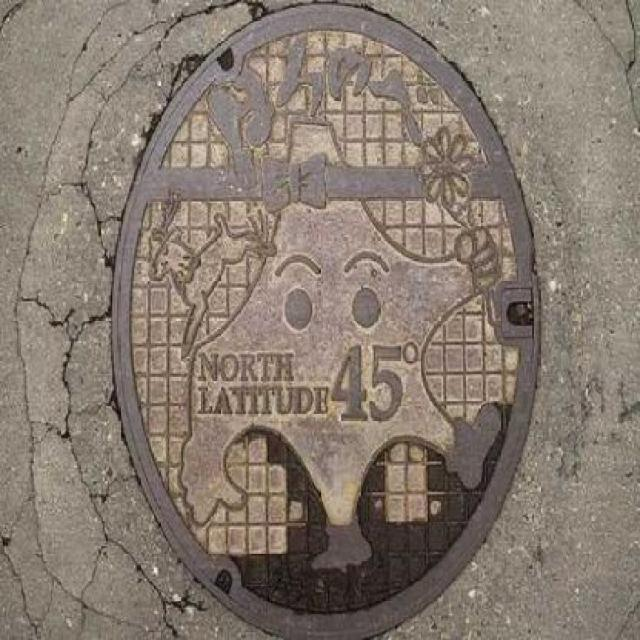Manhole: (124, 19, 558, 638)
